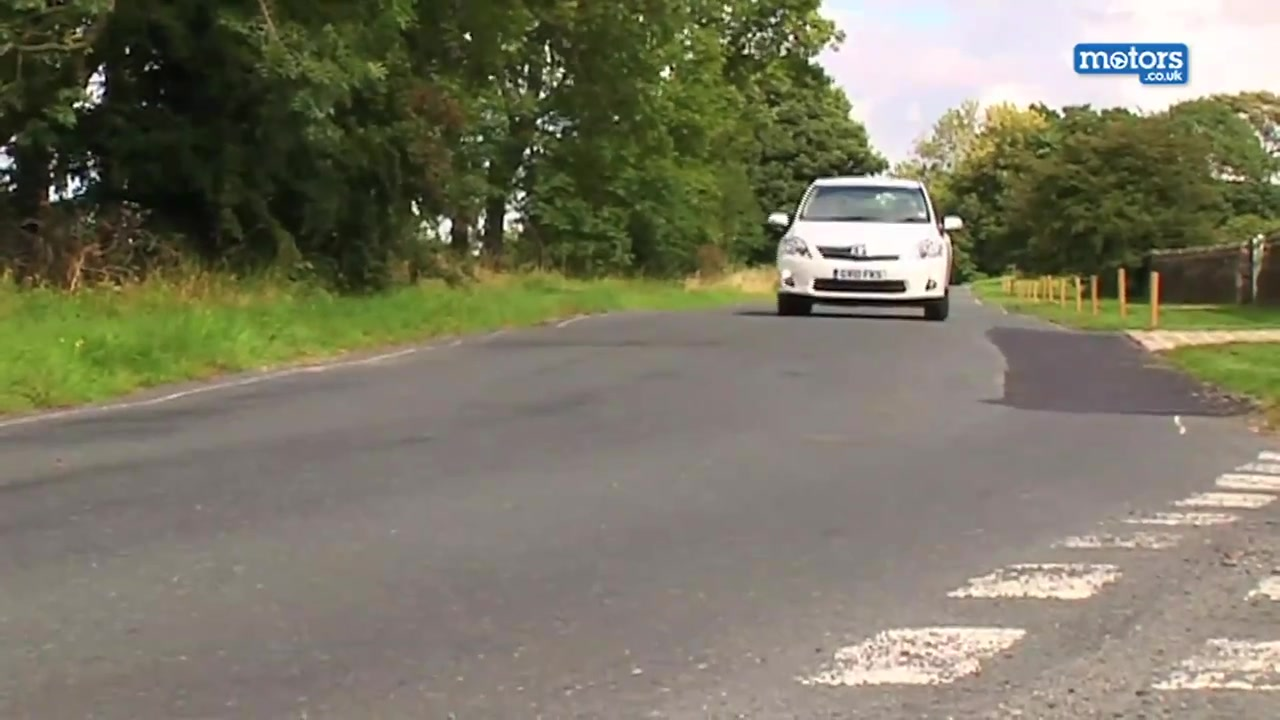car: (767, 173, 966, 324)
